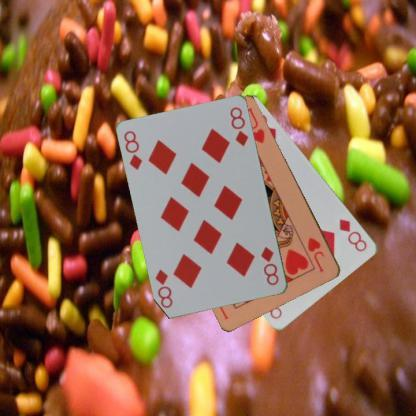8d: (336, 216, 368, 253), (121, 128, 144, 171), (258, 244, 280, 288)
Jh: (305, 234, 327, 274)
